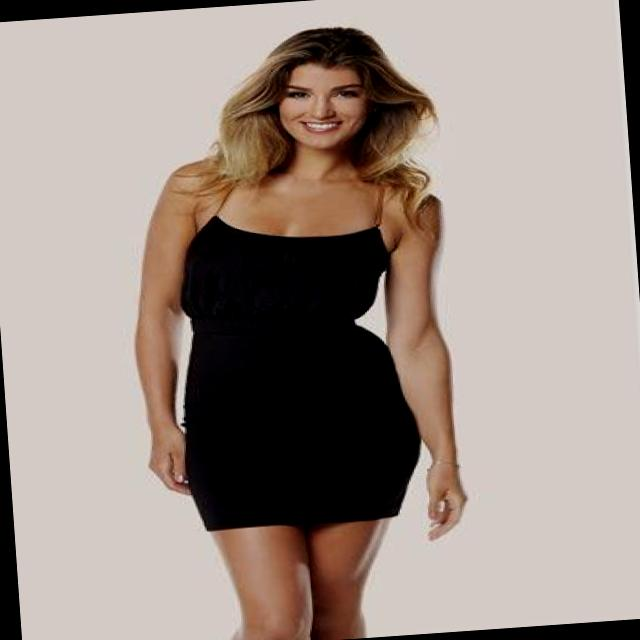dress: (167, 202, 425, 534)
